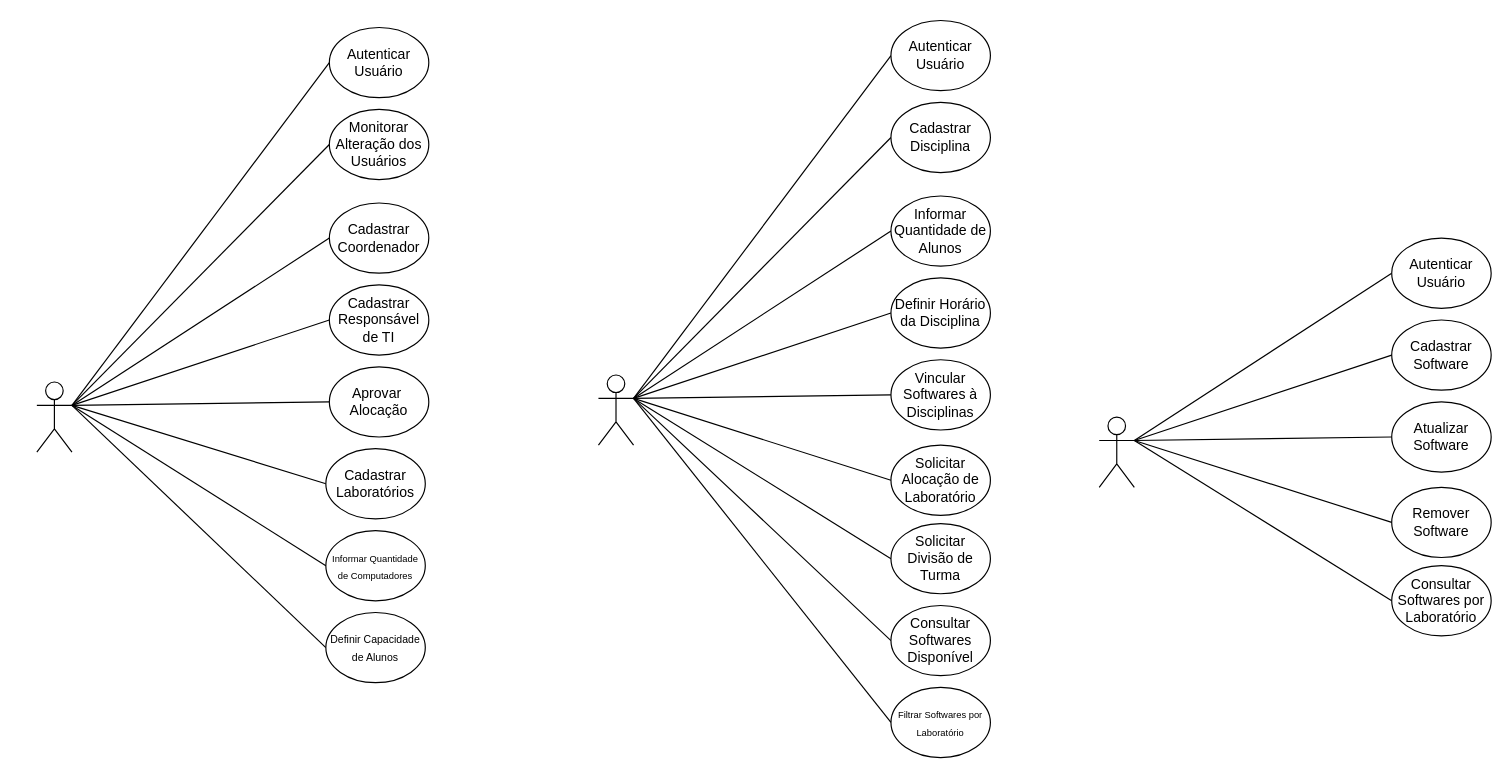
The diagram is 1512 pixels wide and 778 high, and some of its shapes have lost their labels. The centre of each missing label's shape, as x and y in pixels:
"Coordenador" belongs at point 615,409.
"Diretor Acadêmico" belongs at point 54,416.
"Responsável de TI" belongs at point 1116,451.
